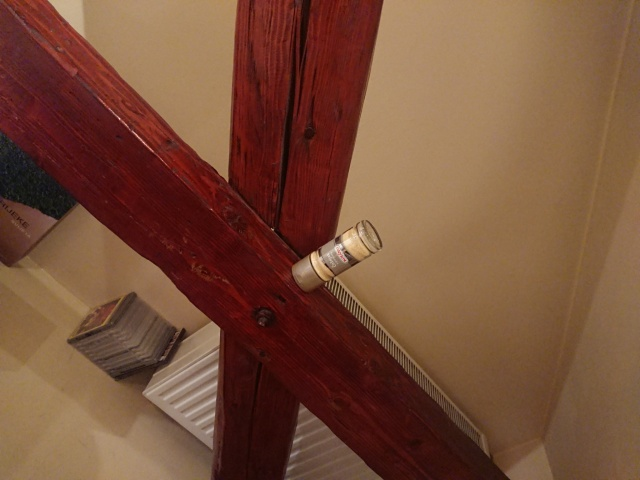Kotanyi Garlic Granules 70g: (289, 217, 386, 295)
